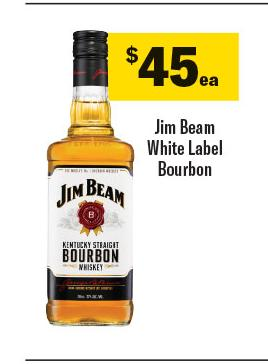description_block: (140, 116, 229, 188)
price_main: (110, 33, 243, 107)
product_image_block: (35, 17, 142, 338)
